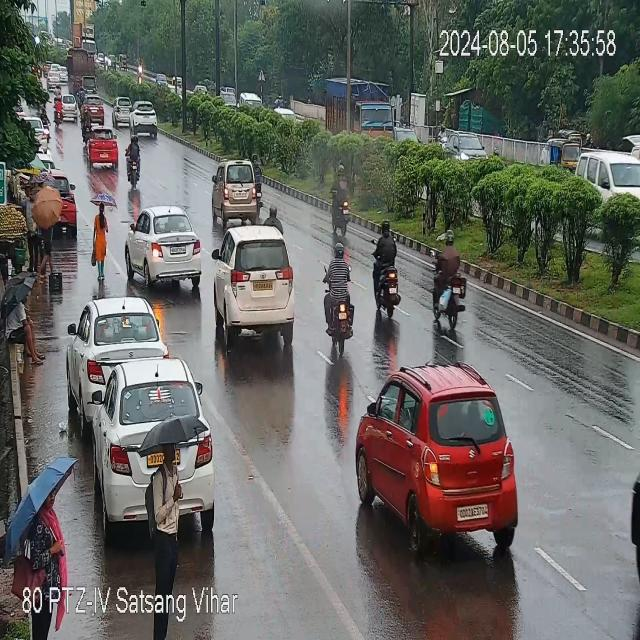2-wheelers: (322, 236, 360, 348), (427, 241, 470, 328), (370, 222, 405, 314), (323, 166, 355, 241), (126, 134, 146, 186)
auto: (212, 160, 265, 225)
car: (356, 365, 522, 545), (78, 358, 218, 526), (211, 223, 297, 340), (68, 297, 165, 397), (128, 210, 206, 284), (581, 150, 640, 205), (112, 97, 160, 139), (84, 128, 118, 169), (126, 110, 160, 138), (81, 98, 108, 126), (58, 93, 80, 122), (45, 72, 64, 95)
pedestrian: (15, 484, 65, 594), (149, 436, 186, 580), (3, 279, 47, 364), (31, 184, 63, 274), (88, 206, 112, 301)
truck: (325, 65, 396, 146), (66, 49, 98, 95)
